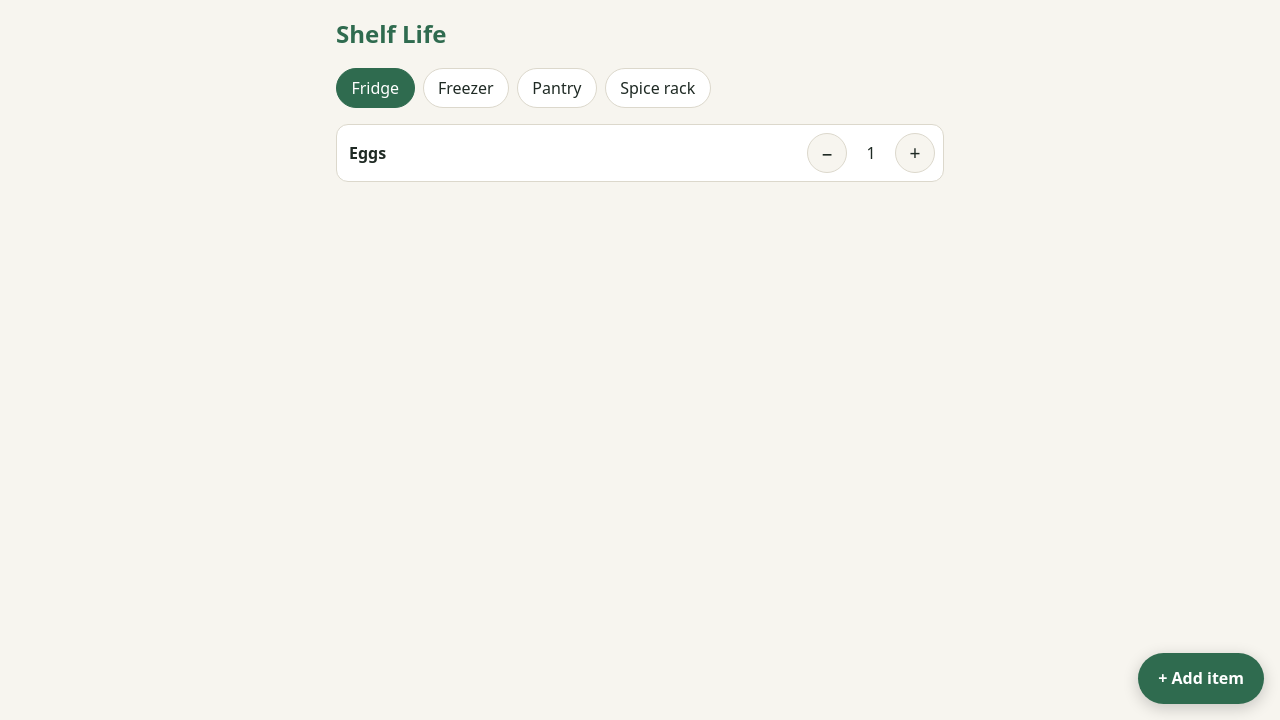
Test case: Inventory screens › records "used up" from the zero prompt (Req 1.4, 1.5)
The image size is (1280, 720).
Step 1. Click the button named "One less Eggs" → click(827, 153), box [807,133,847,173]
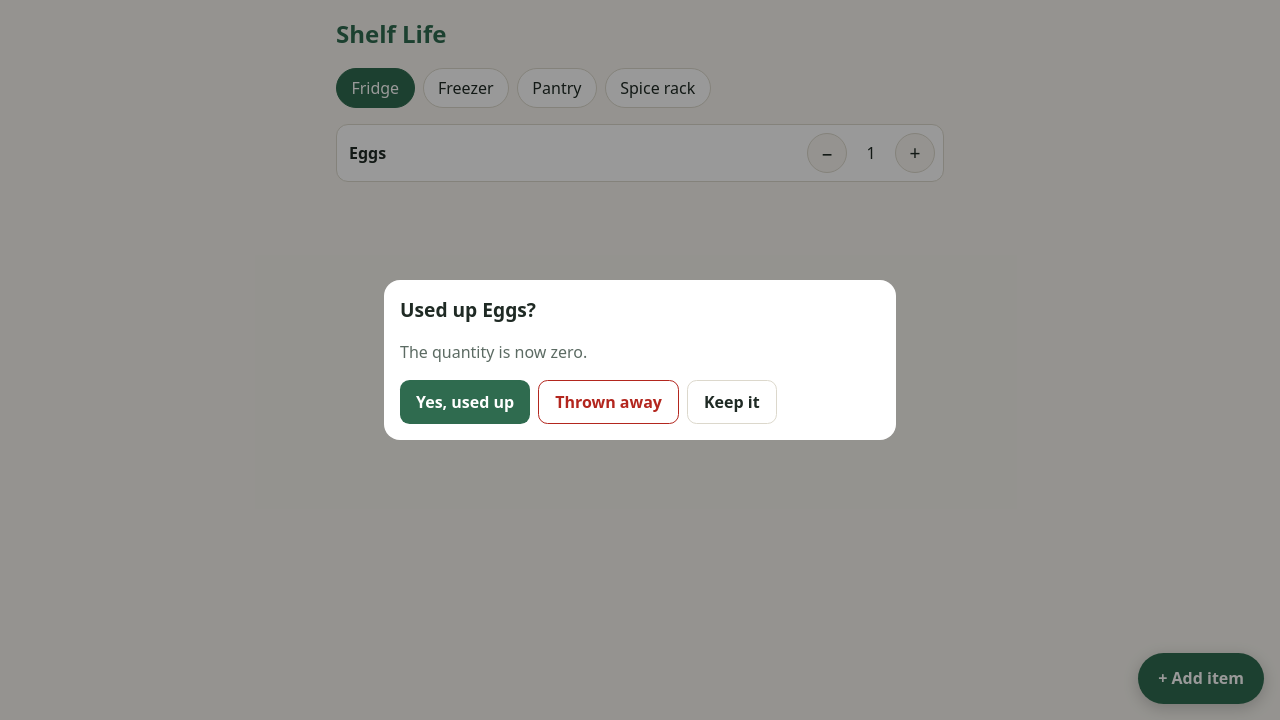
Step 2. Click the button "Yes, used up" → click(465, 402), box [400,380,530,424]
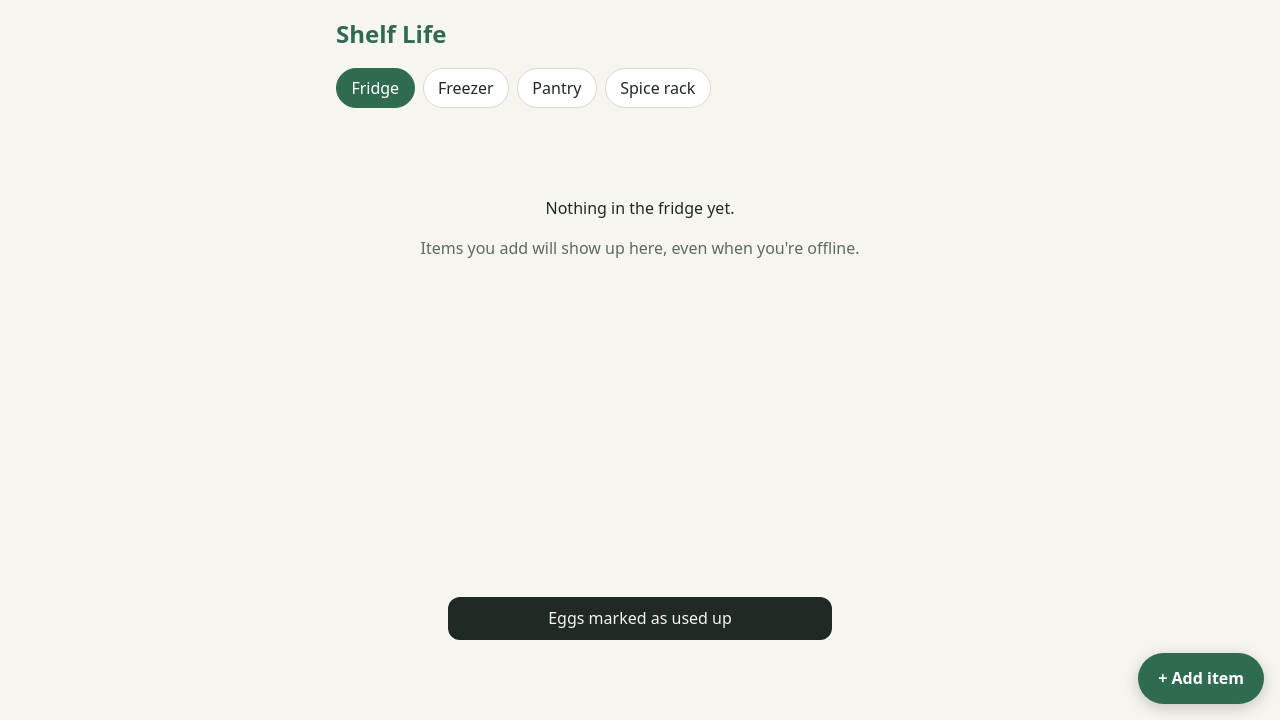
Expected: the text "Nothing in the fridge yet." is shown, [546,197,734,219]
